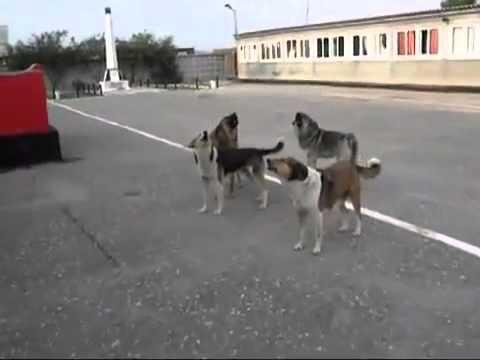dog_aggressive: (266, 155, 382, 259), (187, 131, 286, 213), (291, 108, 357, 169), (210, 111, 241, 200)
